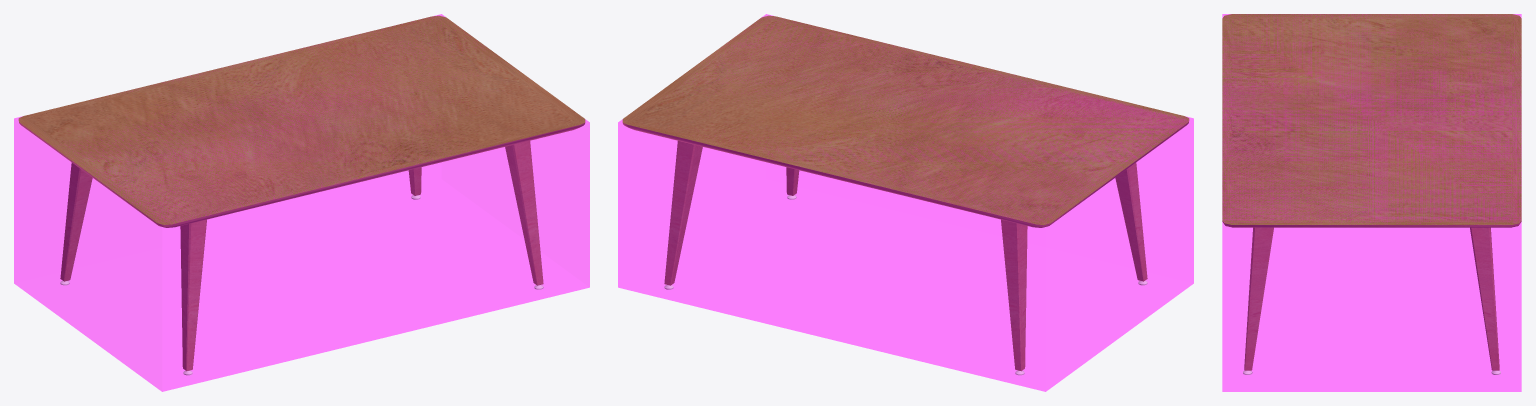
The model's file is lowtable_A.fbx.
3 renders of one model, left to right at view 1: azimuth 30°, elevation 25°; view 2: azimuth 150°, elevation 25°; view 3: azimuth 270°, elevation 25°, orthographic.
Parts seen in each view (by area): view 1: boundingbox, lowtable_A; view 2: boundingbox, lowtable_A; view 3: boundingbox, lowtable_A.
Part boxes in pixels (x1,y1,x2,y2): boundingbox: [14, 14, 589, 391]; lowtable_A: [18, 15, 585, 375]; boundingbox: [618, 14, 1193, 391]; lowtable_A: [622, 15, 1189, 375]; boundingbox: [1222, 14, 1521, 391]; lowtable_A: [1222, 14, 1521, 374].
Bounding box in the file's own units: 60 × 22.14 × 36.
3 materials, 1 textured.
